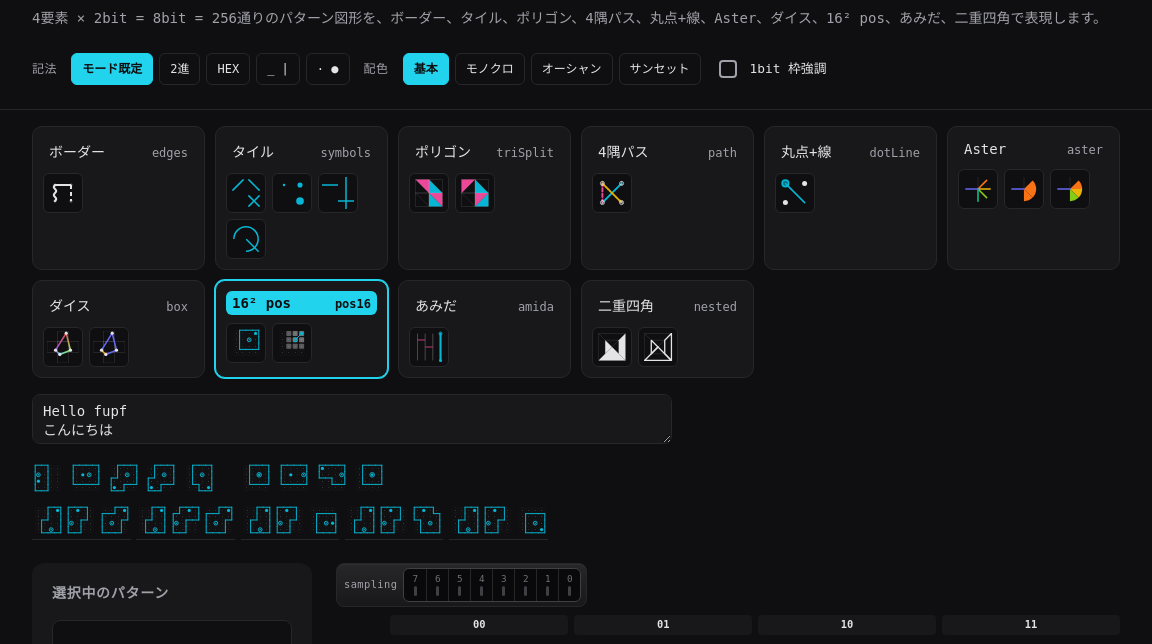
Test: App › shows uppercase hexadecimal notation
Click the radio button labelled "HEX" at (228, 69), box [206,53,250,85]
(page scrolled)
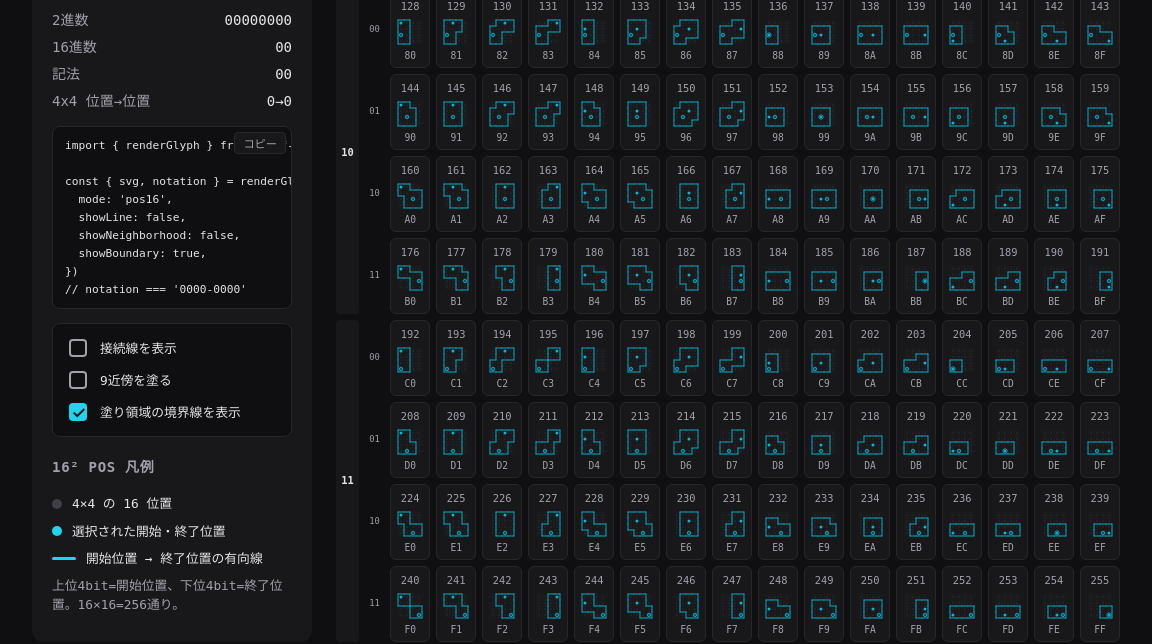
Check: the text with class "notation" reads "FF", box [1094,624,1106,635]
